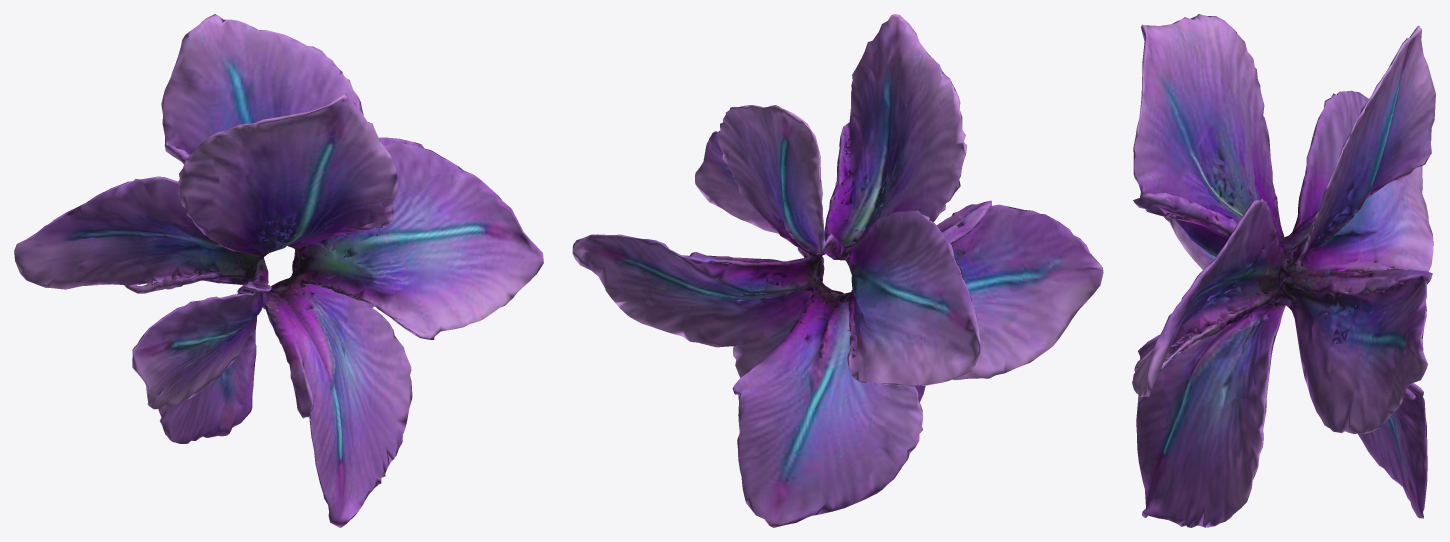
The picture shows the model from 3 angles, left to right: view 1: azimuth 30°, elevation 25°; view 2: azimuth 150°, elevation 25°; view 3: azimuth 270°, elevation 25°; orthographic projection. The views are drawn at different scales.
Size of the model in its own units: 2 by 1.99 by 1.11.
1 material, 1 textured.
